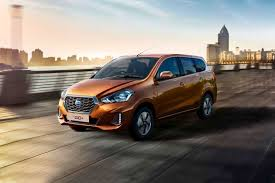car: (50, 46, 230, 141)
